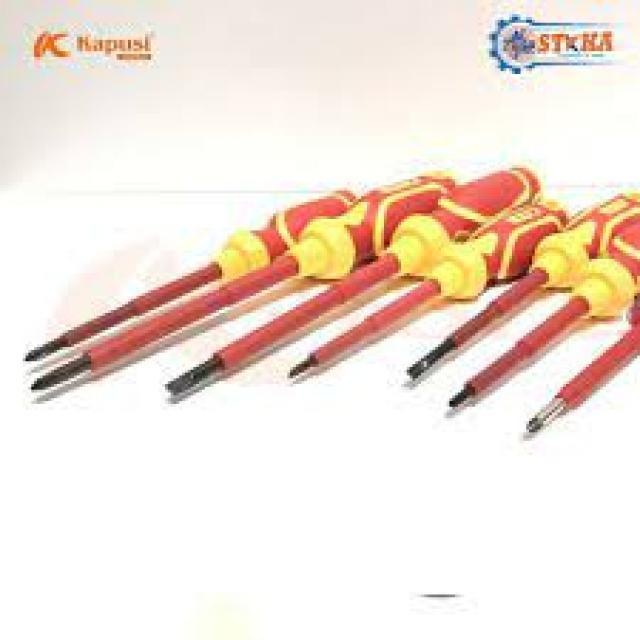screwdriver: (29, 164, 466, 396), (158, 161, 545, 397), (18, 185, 366, 370), (283, 196, 576, 384), (401, 188, 640, 387), (441, 208, 640, 418)
